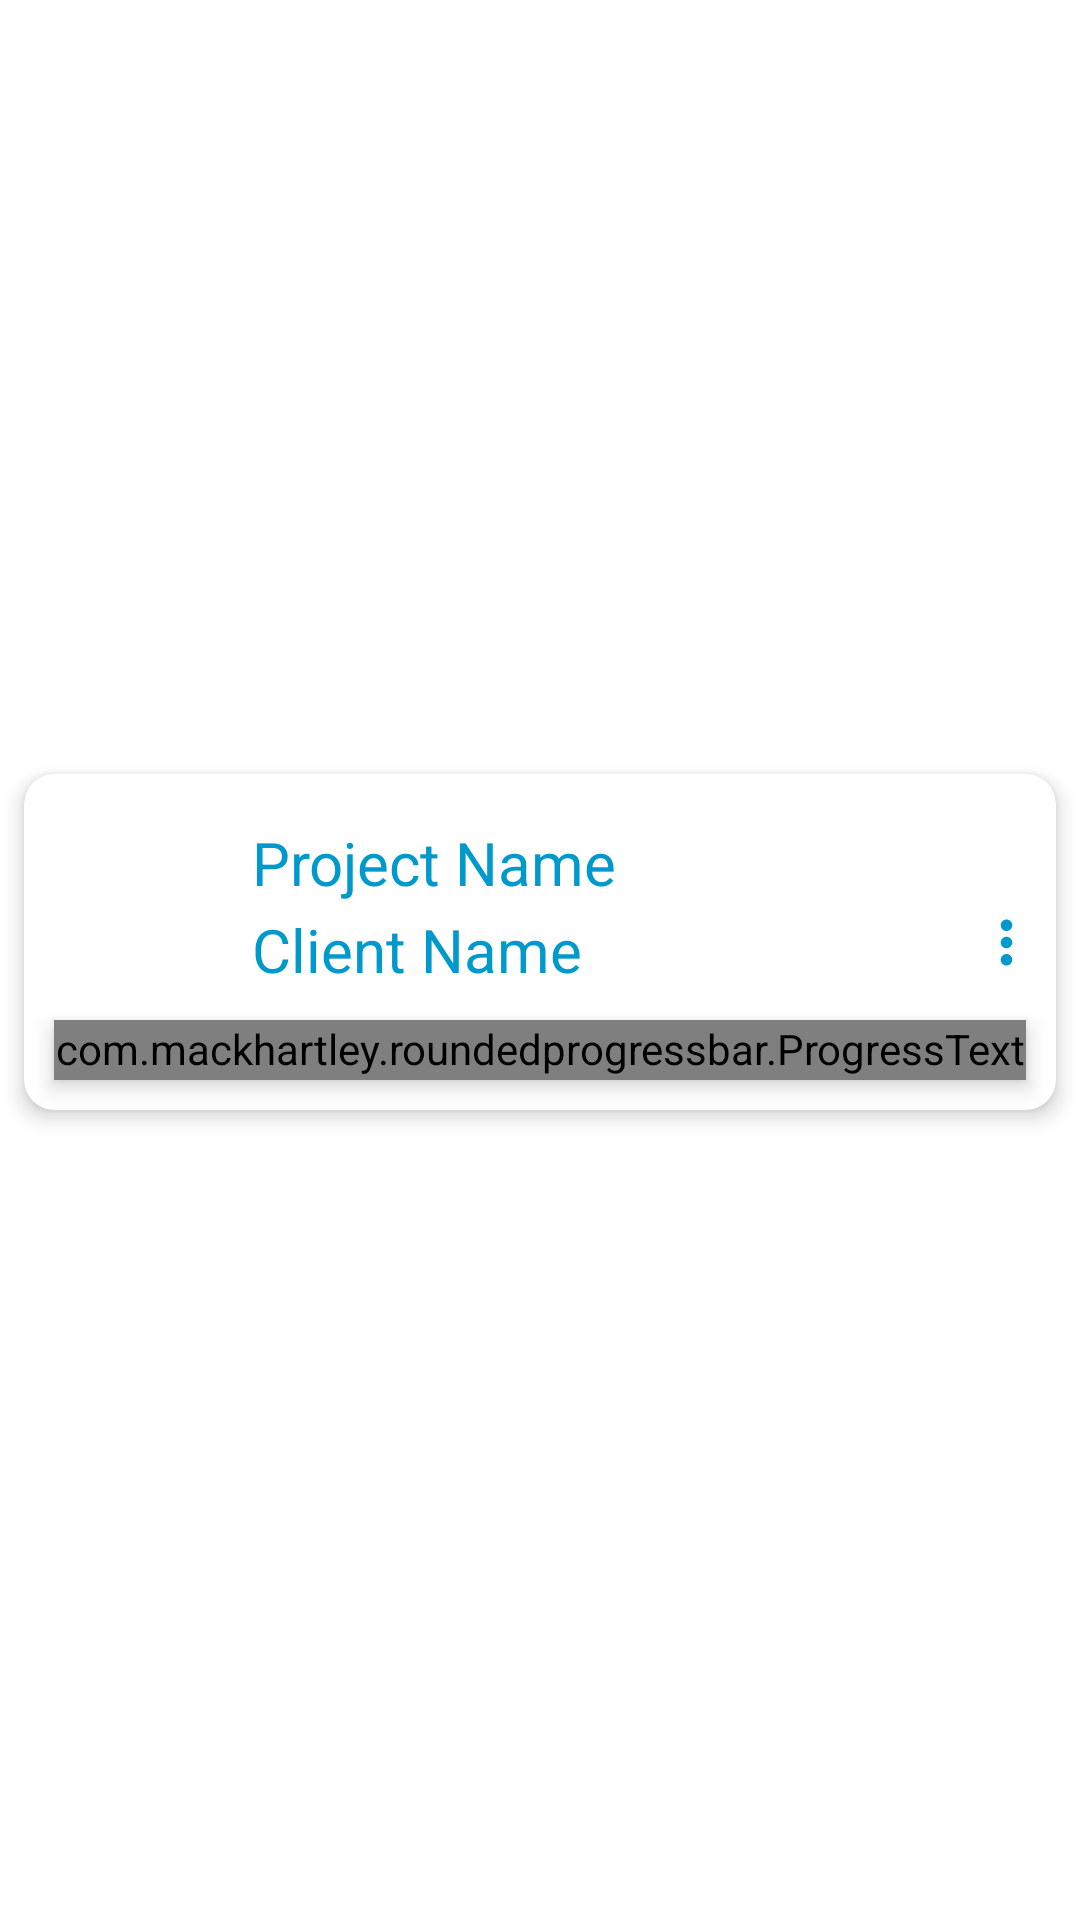

Icon bounding boxes for this 1080×1920 phone screenshot, format bbox=[x1, y1, x2, y2]:
more: bbox=[1000, 919, 1013, 966]
